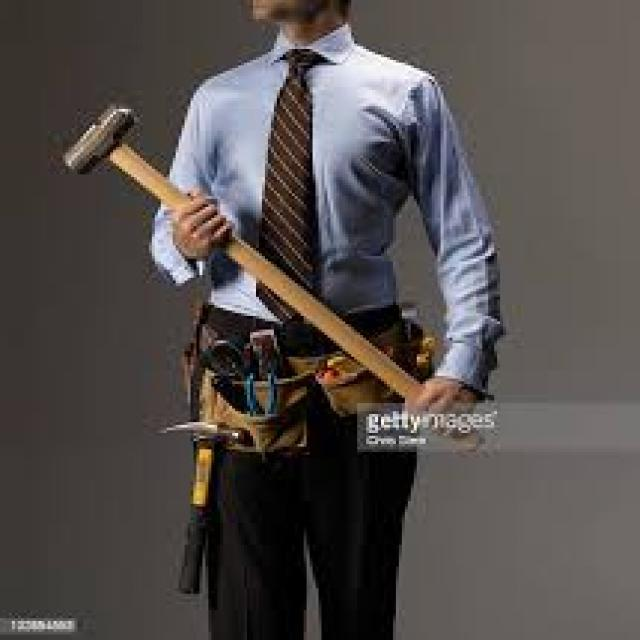hammer: (53, 97, 494, 459)
